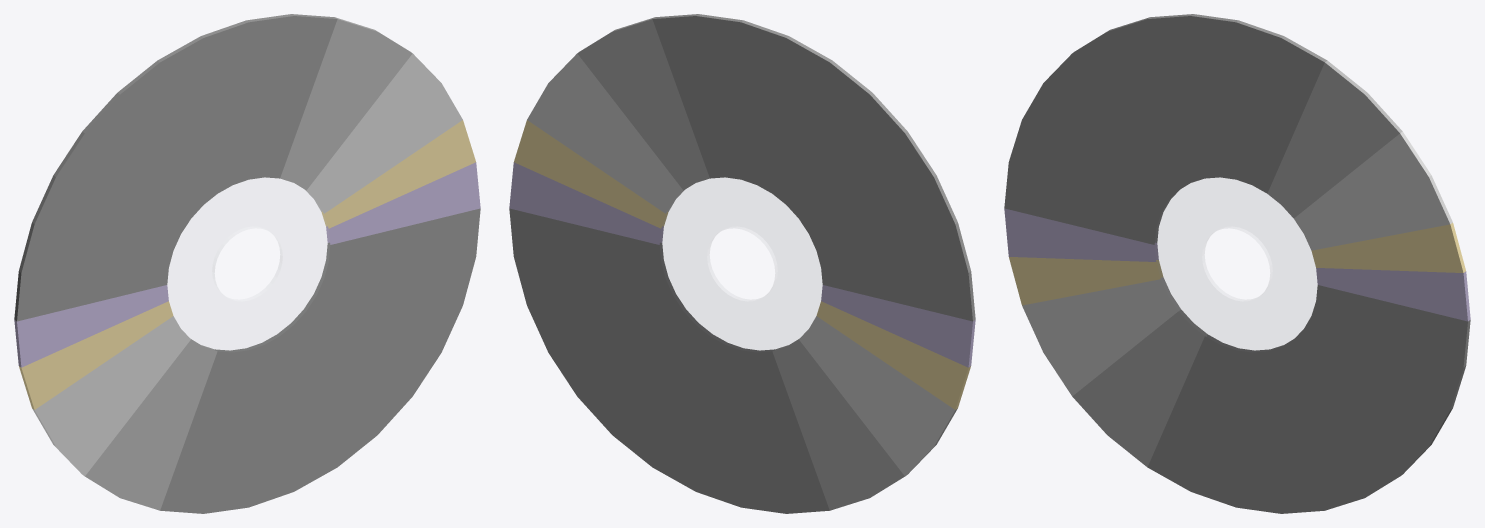
The model's file is optical_disk.glb.
3 renders of one model, left to right at view 1: azimuth 30°, elevation 25°; view 2: azimuth 150°, elevation 25°; view 3: azimuth 330°, elevation 25°, orthographic.
Parts seen in each view (by area): view 1: Circle.2552; view 2: Circle.2552; view 3: Circle.2552.
Part boxes in pixels (box(x1,y1,x2,y2)): Circle.2552: box(14, 14, 480, 513); Circle.2552: box(509, 14, 975, 513); Circle.2552: box(1004, 14, 1470, 513).
Size of the model in its own units: 2.2 by 2.2 by 0.022.
2 materials, 1 textured.
